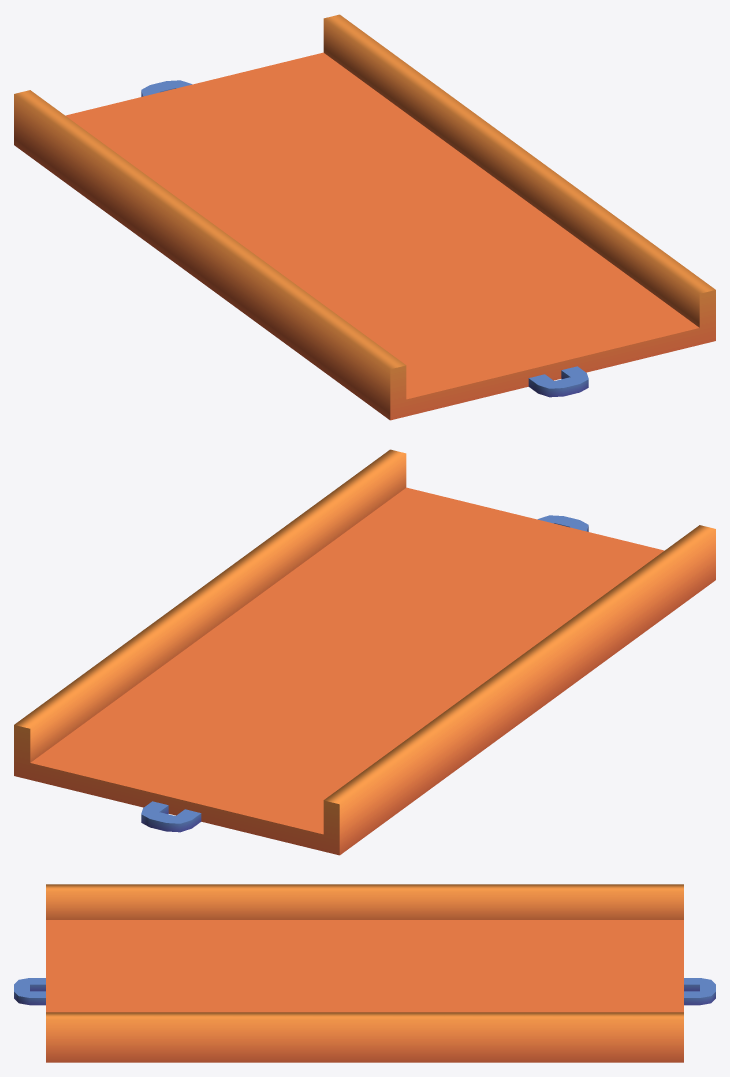
File: track-wide-straight.obj
3 views of the same model, one above another, from view 1: azimuth 30°, elevation 25°; view 2: azimuth 150°, elevation 25°; view 3: azimuth 270°, elevation 25° (orthographic). The views are drawn at different scales.
Visible parts, largest first — view 1: track-wide-straight; view 2: track-wide-straight; view 3: track-wide-straight.
Part boxes in pixels (x1,y1,x2,y2): track-wide-straight: (14, 14, 715, 420); track-wide-straight: (14, 449, 715, 855); track-wide-straight: (14, 884, 715, 1062).
Bounding box in the file's own units: 2 × 0.3 × 4.4.
Materials: 1 (1 with a texture image).
